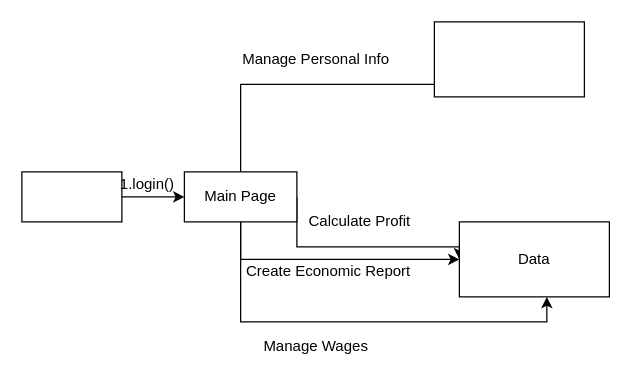
The diagram is 631 pixels wide and 381 high, and some of its shapes have lost their labels. Here are the shapes that lost their labels. From the top down, the centre of each, then its label:
At point (508, 59): "Personal Info".
At point (71, 196): "Economist".
